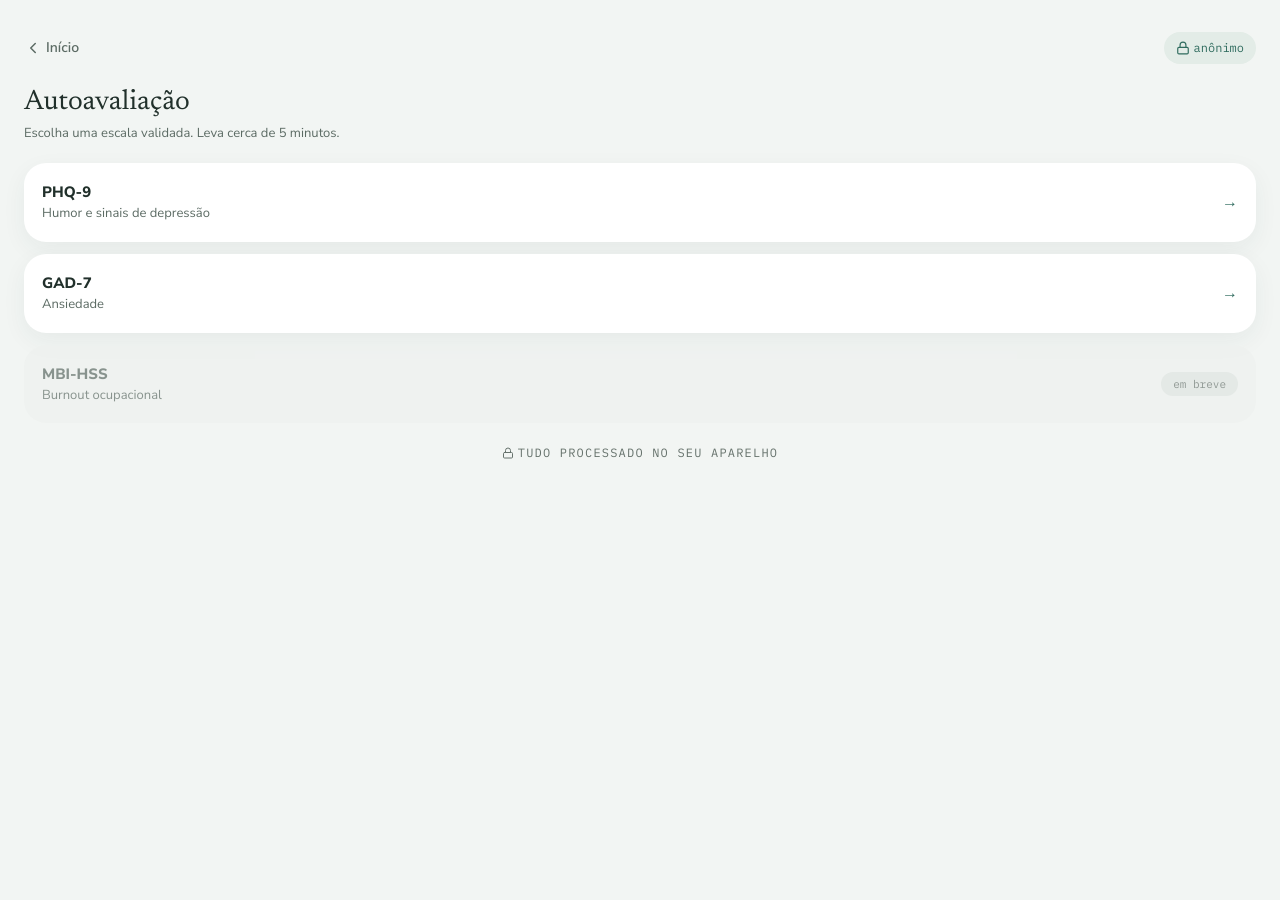
Test: AssessmentSelectPage › opens the encryption info modal when the trust footer is tapped
Click the button with aria-label "Saiba mais sobre a criptografia AES-256" at (640, 453), box [24, 447, 1256, 459]
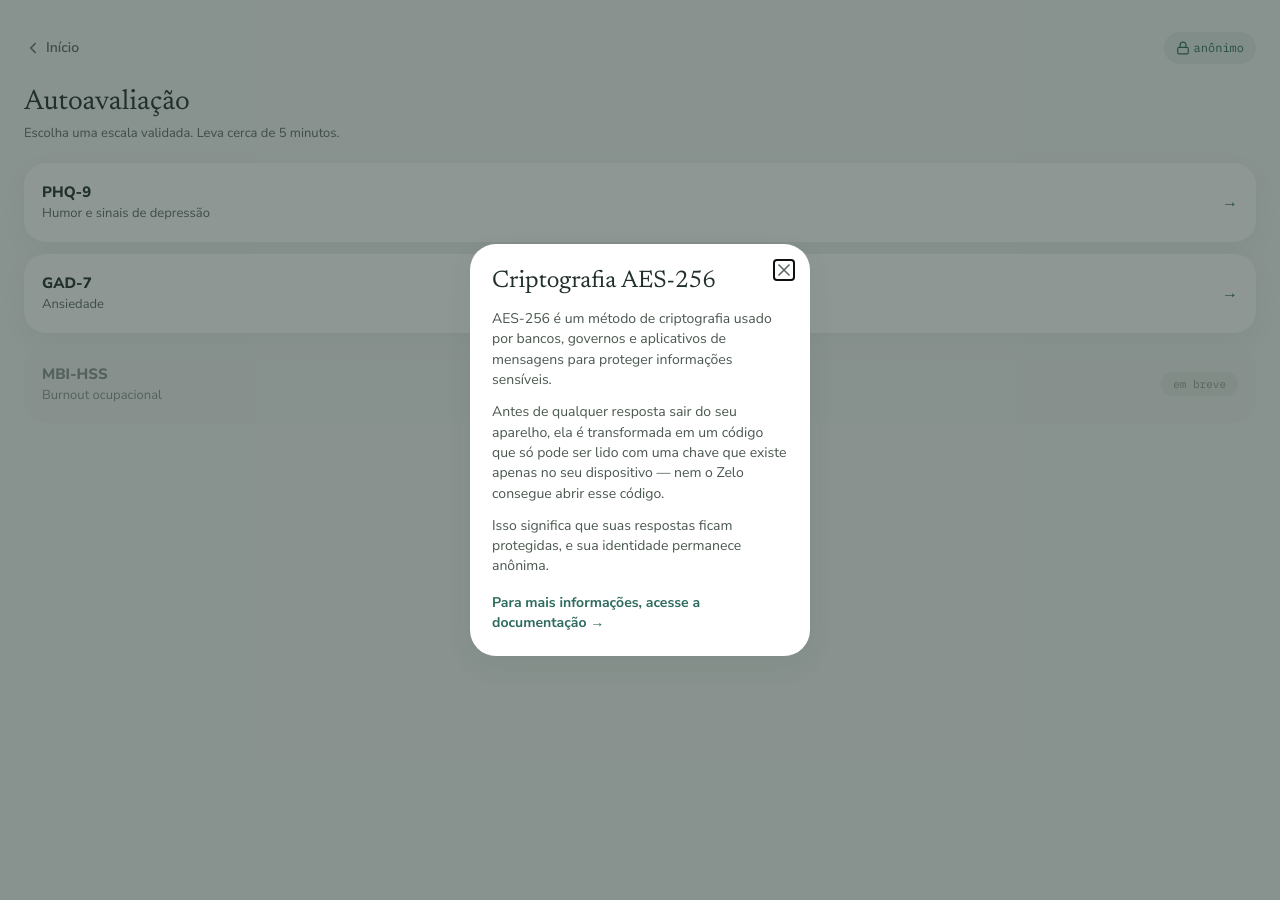
Expected: the dialog "Criptografia AES-256" is shown, [470, 244, 810, 656]
